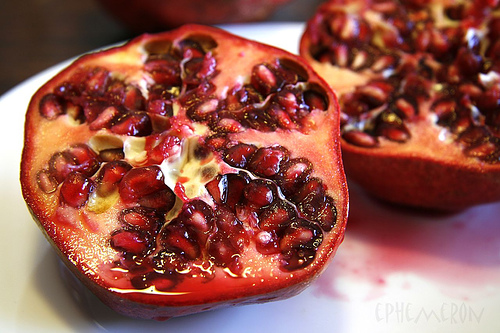pomogranate: (21, 24, 350, 323), (297, 0, 498, 212), (159, 0, 287, 24)
